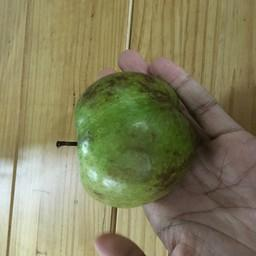Bad_apple: (73, 65, 198, 209)
